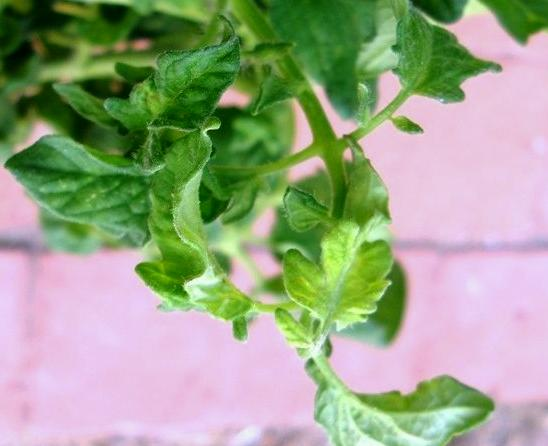Tomato leaf yellow virus: (124, 110, 254, 339), (278, 144, 414, 335), (0, 114, 175, 241), (287, 359, 512, 446), (373, 0, 514, 123)
